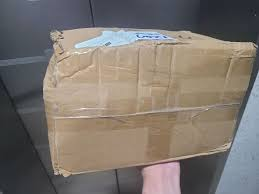damaged package: (41, 30, 96, 175), (130, 34, 200, 58)
